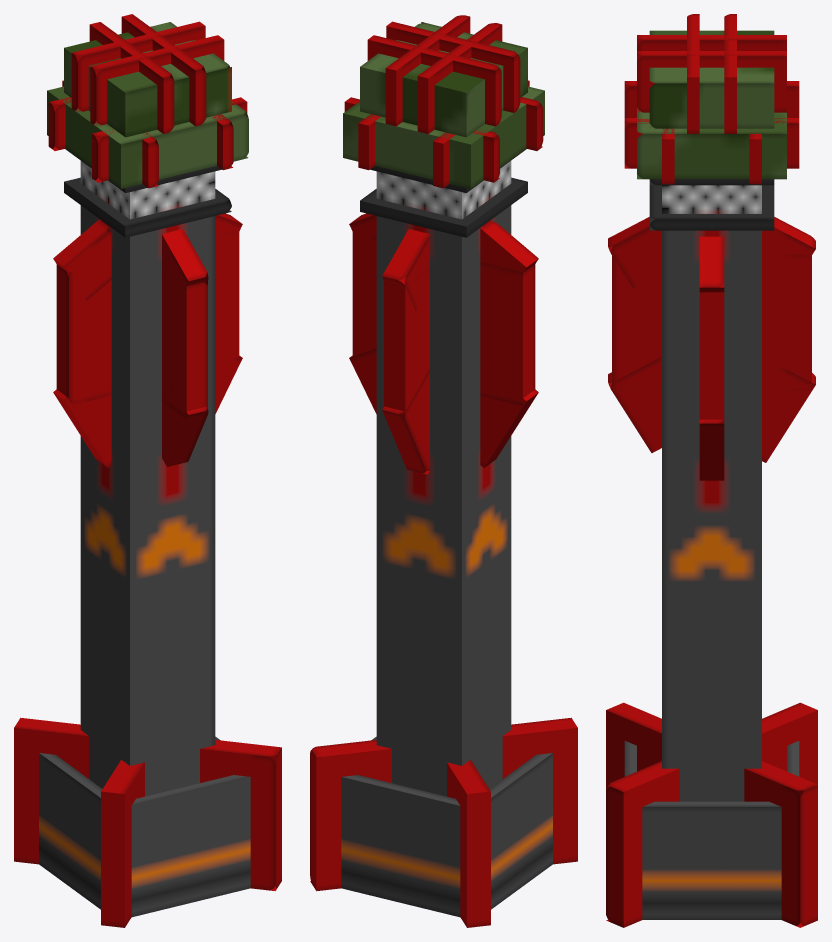
Rendered from missile_fragmentation.obj.
The picture shows the model from 3 angles, left to right: view 1: azimuth 30°, elevation 25°; view 2: azimuth 150°, elevation 25°; view 3: azimuth 270°, elevation 25°; orthographic projection.
Visible parts, largest first — view 1: Shape1, Shape2, Shape3, Shape5a, Shape7, Shape2c, Shape7a, Shape5, Shape3a, Shape6, Shape7g, Shape7f (+12 smaller); view 2: Shape1, Shape2a, Shape3a, Shape5a, Shape2c, Shape7, Shape7a, Shape3, Shape5, Shape6, Shape4a, Shape7g (+11 smaller); view 3: Shape1, Shape2b, Shape5, Shape3a, Shape3, Shape7, Shape7a, Shape7i, Shape5a, Shape4d, Shape4, Shape6 (+12 smaller).
Part boxes in pixels (x1=…): Shape1: x1=80, y1=161, x2=215, y2=796; Shape2: x1=131, y1=775, x2=250, y2=917; Shape3: x1=14, y1=717, x2=281, y2=891; Shape5a: x1=56, y1=231, x2=239, y2=404; Shape7: x1=47, y1=86, x2=248, y2=188; Shape2c: x1=39, y1=753, x2=102, y2=909; Shape7a: x1=64, y1=22, x2=231, y2=137; Shape5: x1=162, y1=268, x2=207, y2=418; Shape3a: x1=101, y1=759, x2=144, y2=927; Shape6: x1=64, y1=177, x2=231, y2=237; Shape7g: x1=90, y1=35, x2=224, y2=125; Shape7f: x1=71, y1=21, x2=205, y2=112; Shape1: x1=376, y1=161, x2=511, y2=796; Shape2a: x1=341, y1=775, x2=460, y2=917; Shape3a: x1=310, y1=717, x2=577, y2=891; Shape5a: x1=352, y1=231, x2=535, y2=405; Shape2c: x1=489, y1=753, x2=552, y2=909; Shape7: x1=343, y1=86, x2=544, y2=188; Shape7a: x1=360, y1=22, x2=527, y2=137; Shape3: x1=447, y1=759, x2=490, y2=927; Shape5: x1=384, y1=268, x2=429, y2=418; Shape6: x1=360, y1=177, x2=527, y2=237; Shape4a: x1=480, y1=362, x2=538, y2=467; Shape7g: x1=386, y1=21, x2=520, y2=112; Shape1: x1=662, y1=185, x2=761, y2=801; Shape2b: x1=642, y1=801, x2=781, y2=919; Shape5: x1=612, y1=246, x2=811, y2=390; Shape3a: x1=606, y1=702, x2=817, y2=927; Shape3: x1=606, y1=702, x2=817, y2=927; Shape7: x1=637, y1=108, x2=786, y2=179; Shape7a: x1=649, y1=30, x2=774, y2=128; Shape7i: x1=637, y1=51, x2=786, y2=112; Shape5a: x1=699, y1=283, x2=724, y2=423; Shape4d: x1=762, y1=356, x2=815, y2=462; Shape4: x1=608, y1=356, x2=661, y2=452; Shape6: x1=649, y1=185, x2=774, y2=230.
Size of the model in its own units: 1.06 by 4.63 by 1.06.
